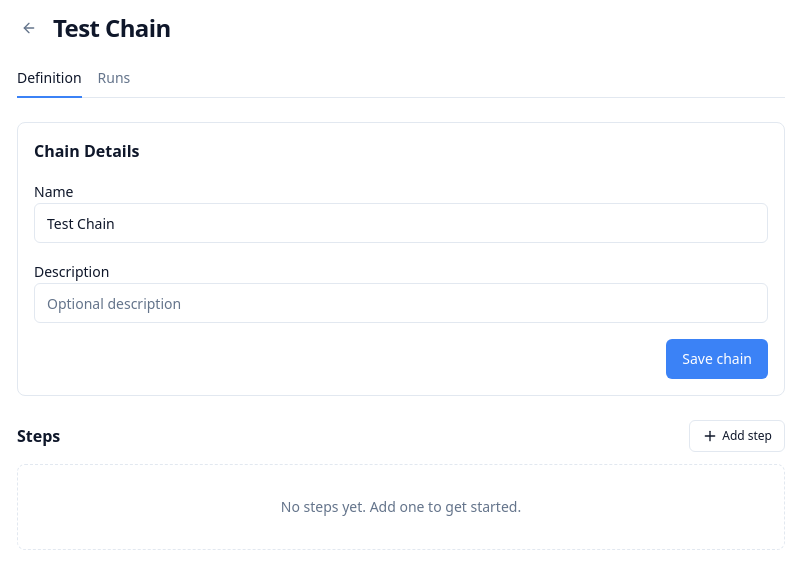
Scenario: WorkflowChainEditorPage - Tab bar › clicking back to Definition tab hides runs content
Click the button "runs". click: click(114, 83)
box: [98,68,130,98]
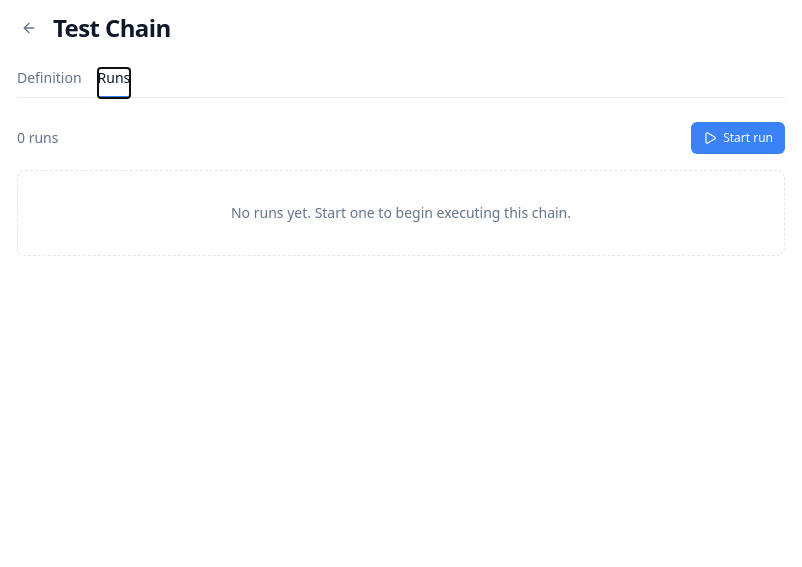
Expected: the text "No runs yet. Start one to begin executing this chain." is shown, [231,203,571,222]
Click the button "definition". click: click(49, 83)
box: [17,68,82,98]
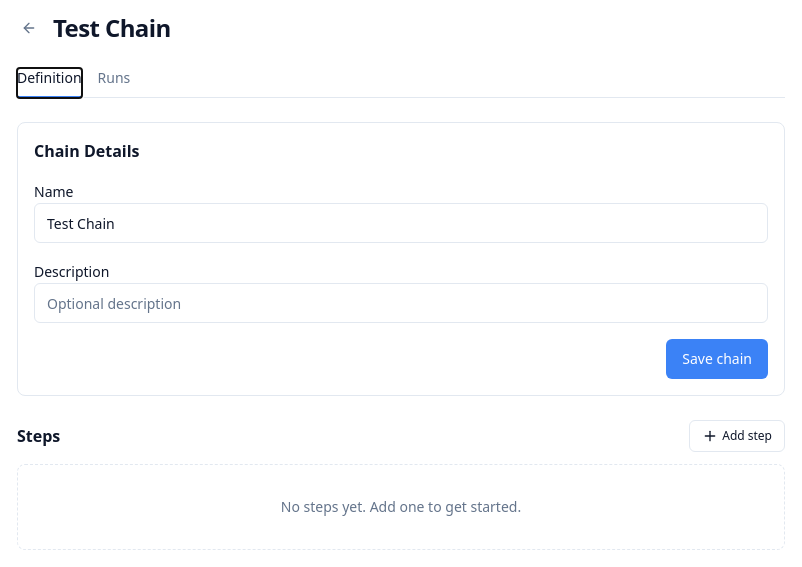
Expected: the text "No runs yet" is gone
Expected: the heading "Chain Details" is shown, [34,140,140,162]
